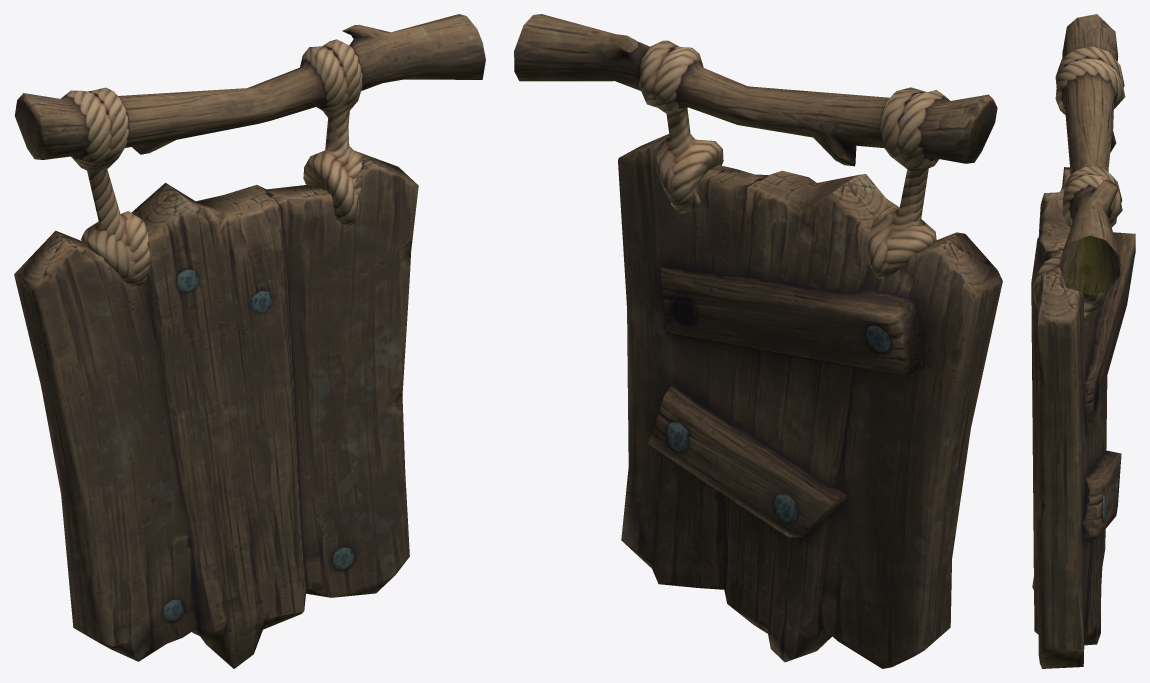
Rendered from S_MVillage_Signs_02_C.fbx.
3 views of the same model, side by side, from view 1: azimuth 30°, elevation 25°; view 2: azimuth 150°, elevation 25°; view 3: azimuth 270°, elevation 25° (orthographic). The views are drawn at different scales.
Parts seen in each view (by area): view 1: S_MVillage_Signs_02_C; view 2: S_MVillage_Signs_02_C; view 3: S_MVillage_Signs_02_C.
Boxes of the visible parts, left/top/right/bottom form: S_MVillage_Signs_02_C: left=14, top=14, right=485, bottom=668; S_MVillage_Signs_02_C: left=514, top=14, right=1002, bottom=668; S_MVillage_Signs_02_C: left=1031, top=14, right=1135, bottom=668.
Size of what is drawn, in the model's own units: 131 by 167 by 28.72.
